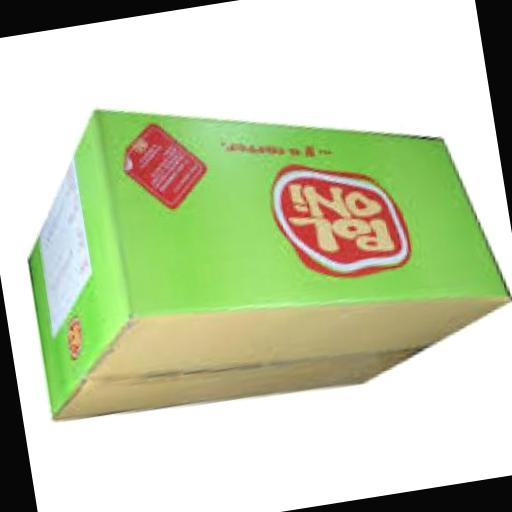cardboard: (5, 49, 512, 434)
